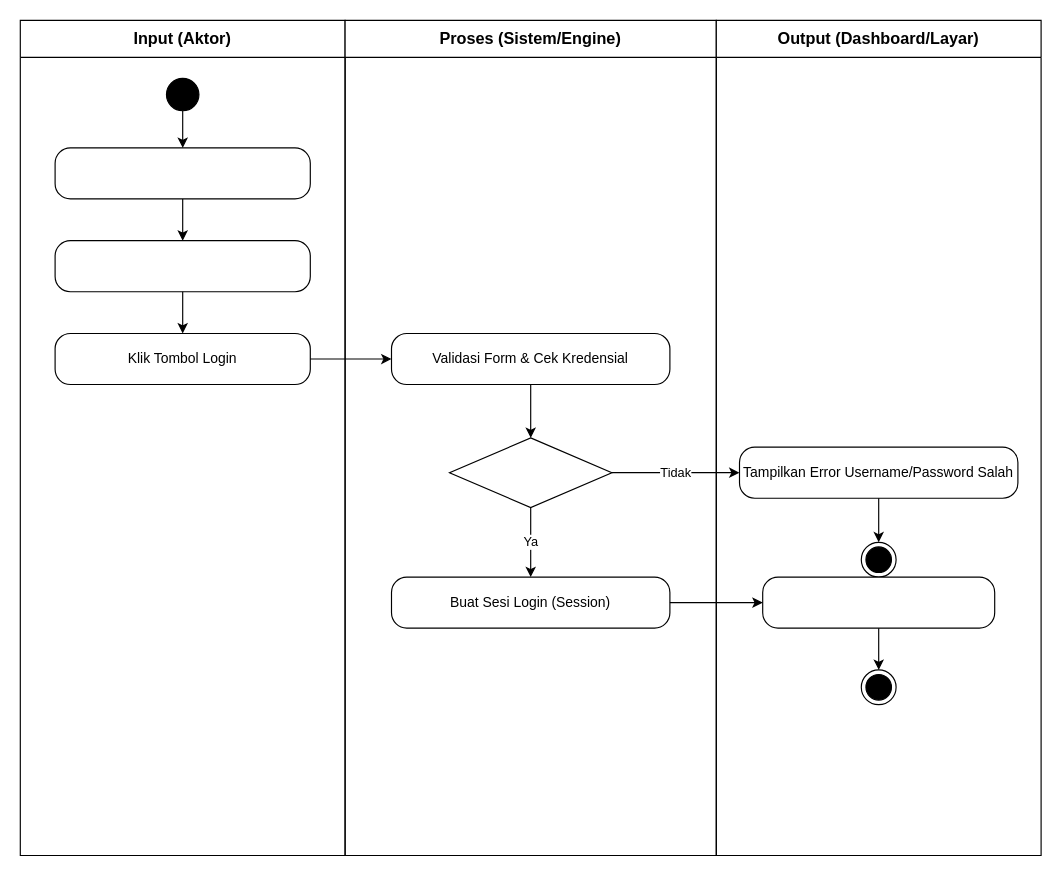
Image size: 1061x876. Some labels were removed from this diagram. Here are the shapes that lost their labels. From the top down, the centre of each, then its label:
At point 182,173: "Akses Halaman Login Praktikum".
At point 182,266: "Input Username & Password".
At point 530,472: "Kredensial Valid?".
At point 878,602: "Arahkan ke Dashboard Role".
